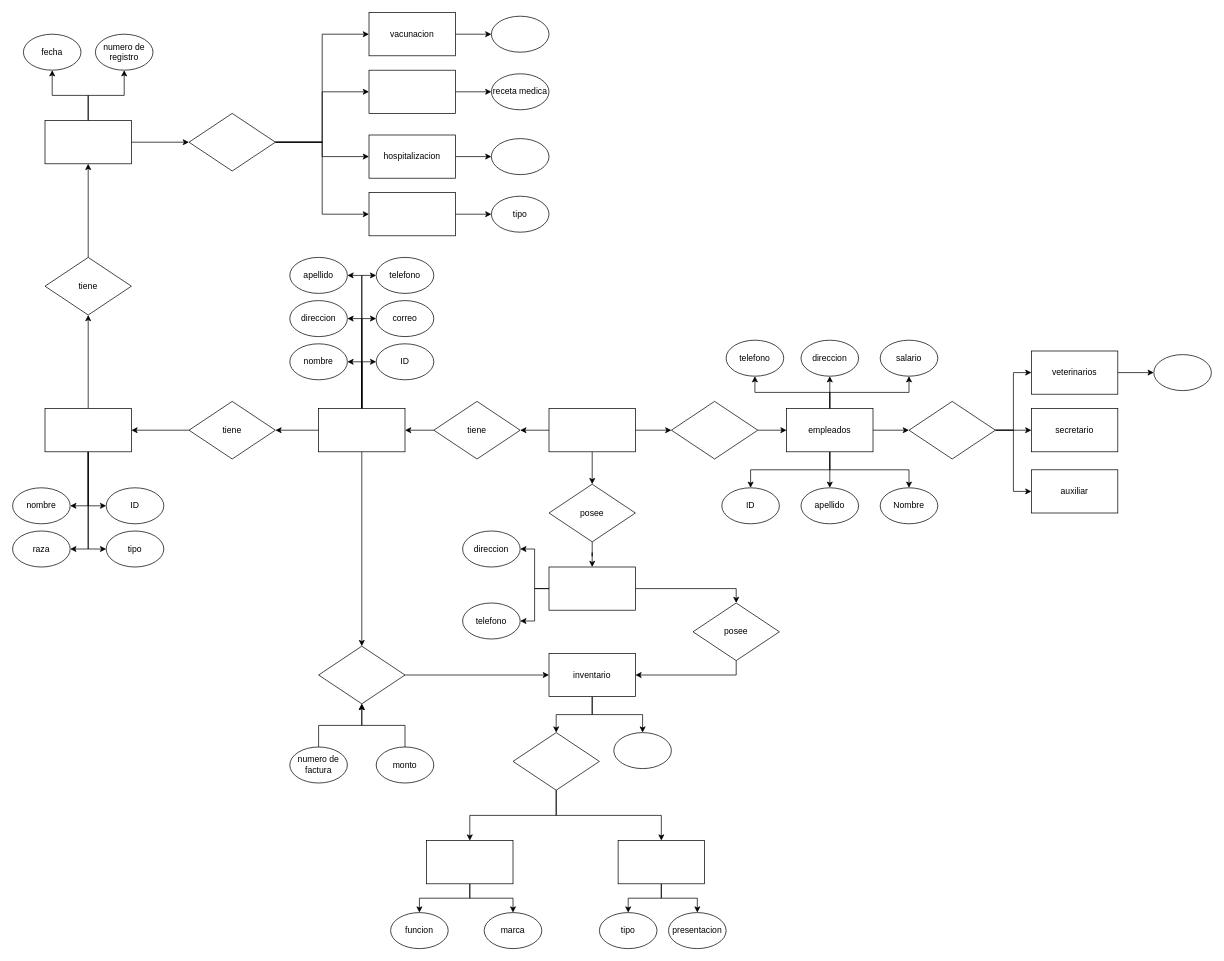
Image size: 1224x961. Some labels were removed from this diagram. The shapes that lost their labels are listed below. From the top down, each one's centre as x and y in pixels, then its label:
At point 520,33: "tipo de vacuna".
At point 411,91: "tratamientos".
At point 87,142: "historial clinico".
At point 231,142: "resume".
At point 520,156: "duracion".
At point 411,214: "citas".
At point 1182,372: "registro".
At point 87,430: "animales".
At point 361,430: "clientes".
At point 591,430: "veterinaria".
At point 714,430: "trabajan".
At point 951,430: "se divide".
At point 591,588: "sucursales".
At point 361,674: "compra".
At point 555,761: "contiene".
At point 642,750: "numero de stock".
At point 469,862: "elementos medicos".
At point 661,862: "medicamentos".
